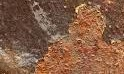Corrosion: (33, 2, 124, 74)
